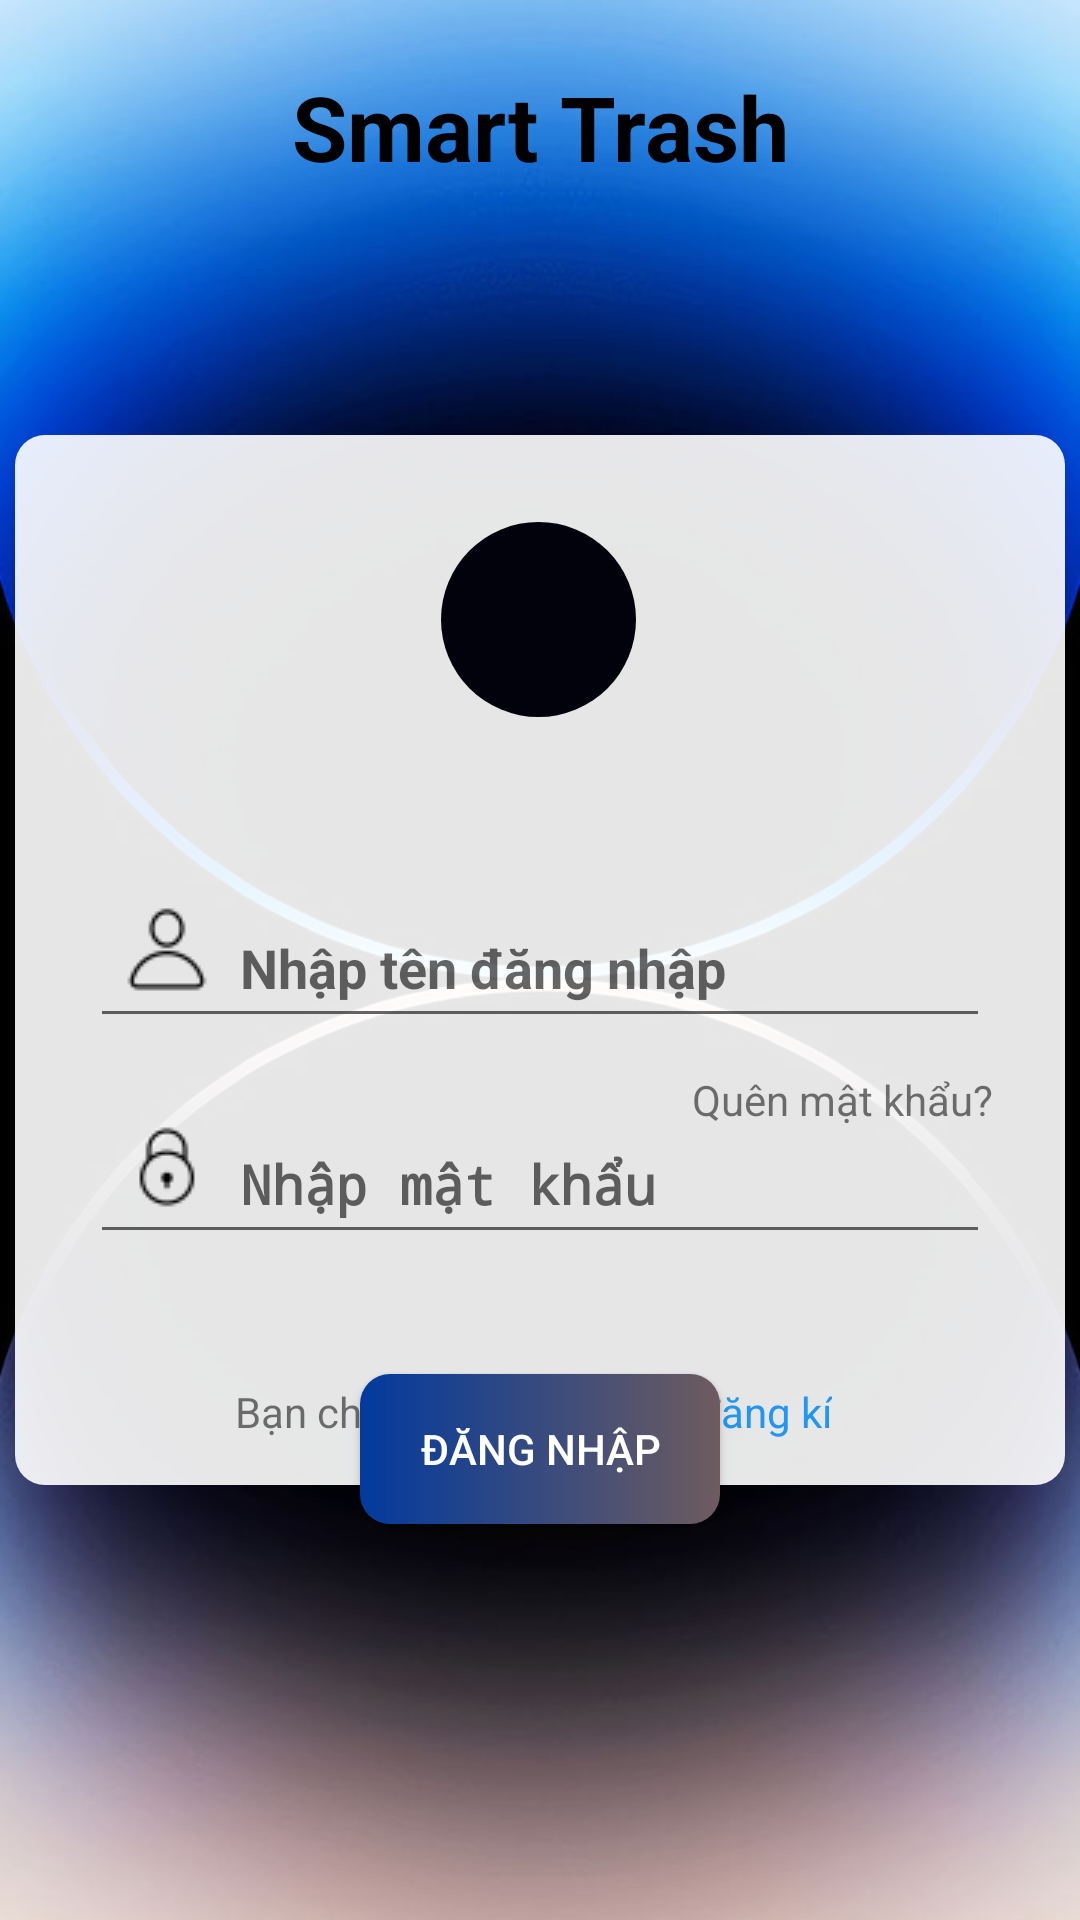

Screen size 1080x1920. Icon name, then its box in pixels as (x1, y1, x2, y2):
login lock: (139, 1127, 195, 1207)
userlogin: (127, 908, 206, 991)
